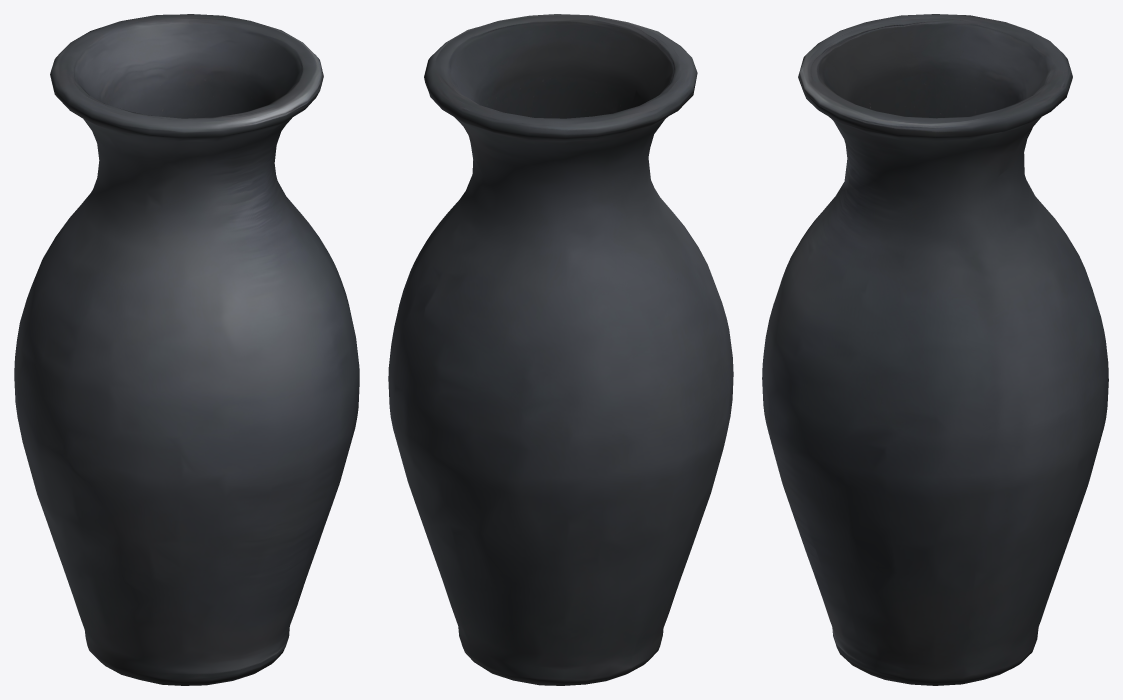
File: ceramic+vase+3d+model.glb
The picture shows the model from 3 angles, left to right: view 1: azimuth 30°, elevation 25°; view 2: azimuth 150°, elevation 25°; view 3: azimuth 270°, elevation 25°; orthographic projection.
Parts seen in each view (by area): view 1: tripo_node_95bcaad6-2a13-490f-a506-a20da2ddd734; view 2: tripo_node_95bcaad6-2a13-490f-a506-a20da2ddd734; view 3: tripo_node_95bcaad6-2a13-490f-a506-a20da2ddd734.
Boxes of the visible parts, x1=… form: tripo_node_95bcaad6-2a13-490f-a506-a20da2ddd734: x1=14, y1=14, x2=359, y2=685; tripo_node_95bcaad6-2a13-490f-a506-a20da2ddd734: x1=388, y1=14, x2=733, y2=685; tripo_node_95bcaad6-2a13-490f-a506-a20da2ddd734: x1=762, y1=14, x2=1108, y2=685.
Bounding box in the file's own units: 0.5398 × 1 × 0.5404.
Materials: 1 (1 with a texture image).
